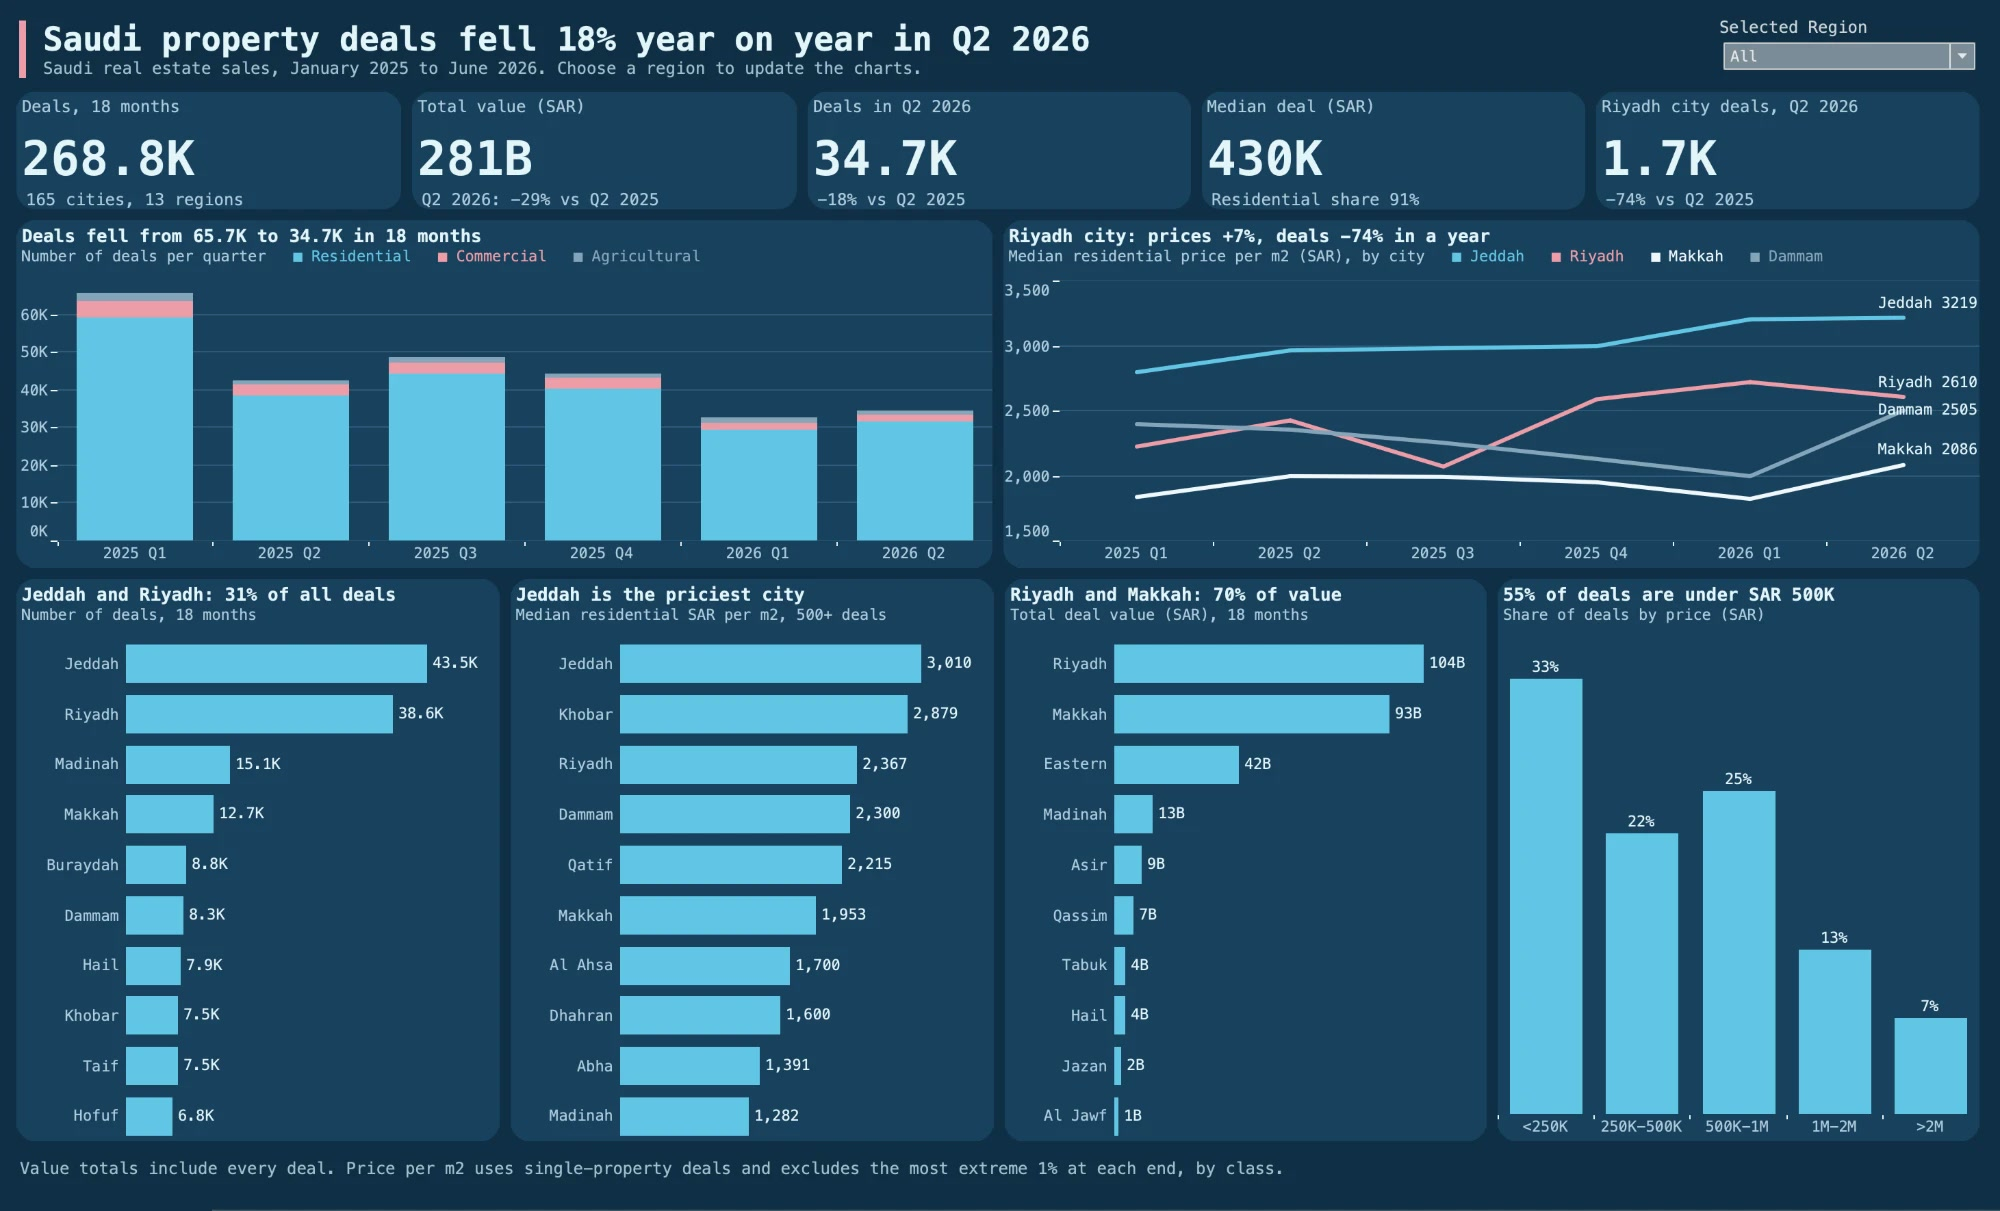

The dashboard page shown, as its layout file describes it:
{"tool":"tableau","page":{"name":"Real Estate Dashboard","canvas":[1000,1000],"units":"permille","ordinal":0},"visuals":[{"type":"blank","box":[16.4,19.1,19.9,73.8]},{"type":"text","box":[36.4,19.1,714.8,73.8]},{"type":"parameter","param":"[Parameters].[Parameter 1]","box":[751.2,19.1,232.4,73.8]},{"type":"worksheet","title":"KPI Deals","mark":"Automatic","box":[16.4,92.9,193.7,128.4]},{"type":"worksheet","title":"KPI Value","mark":"Automatic","box":[210.1,92.9,193.7,128.4]},{"type":"worksheet","title":"KPI Quarter","mark":"Automatic","box":[403.8,92.9,193.7,128.4]},{"type":"worksheet","title":"KPI Median","mark":"Automatic","box":[597.4,92.9,193.7,128.4]},{"type":"worksheet","title":"KPI Riyadh","mark":"Automatic","box":[791.1,92.9,192.5,128.4]},{"type":"worksheet","title":"Deals Type","mark":"Bar","rows":["Calculation_2000"],"cols":["quarter"],"box":[16.4,221.3,483.6,357.9]},{"type":"worksheet","title":"City Prices","mark":"Line","rows":["Calculation_2002"],"cols":["quarter"],"box":[500,221.3,483.6,357.9]},{"type":"worksheet","title":"Top Cities","mark":"Bar","rows":["city"],"cols":["Calculation_2000"],"box":[16.4,579.2,241.8,357.9]},{"type":"worksheet","title":"Priciest Cities","mark":"Bar","rows":["city"],"cols":["Calculation_2002"],"box":[258.2,579.2,241.8,357.9]},{"type":"worksheet","title":"Region Value","mark":"Bar","rows":["region"],"cols":["Calculation_2001"],"box":[500,579.2,241.8,357.9]},{"type":"worksheet","title":"Deal Size","mark":"Bar","rows":["Calculation_2003"],"cols":["price_band"],"box":[741.8,579.2,241.8,357.9]},{"type":"text","box":[16.4,937.1,967.1,43.7]}]}

Visuals, with their boxes on the dashboard's canvas, which has no fixed pixel size, in thousandths of its width and height (x1, y1, x2, y2). These are canvas units, not pixel positions in the 2000x1211 screenshot, which may show the page scaled, cropped or inside an application window:
blank: x1=16 y1=19 x2=36 y2=93
text: x1=36 y1=19 x2=751 y2=93
parameter: x1=751 y1=19 x2=984 y2=93
"KPI Deals" worksheet: x1=16 y1=93 x2=210 y2=221
"KPI Value" worksheet: x1=210 y1=93 x2=404 y2=221
"KPI Quarter" worksheet: x1=404 y1=93 x2=598 y2=221
"KPI Median" worksheet: x1=597 y1=93 x2=791 y2=221
"KPI Riyadh" worksheet: x1=791 y1=93 x2=984 y2=221
"Deals Type" worksheet (Bar marks): x1=16 y1=221 x2=500 y2=579
"City Prices" worksheet (Line marks): x1=500 y1=221 x2=984 y2=579
"Top Cities" worksheet (Bar marks): x1=16 y1=579 x2=258 y2=937
"Priciest Cities" worksheet (Bar marks): x1=258 y1=579 x2=500 y2=937
"Region Value" worksheet (Bar marks): x1=500 y1=579 x2=742 y2=937
"Deal Size" worksheet (Bar marks): x1=742 y1=579 x2=984 y2=937
text: x1=16 y1=937 x2=984 y2=981
